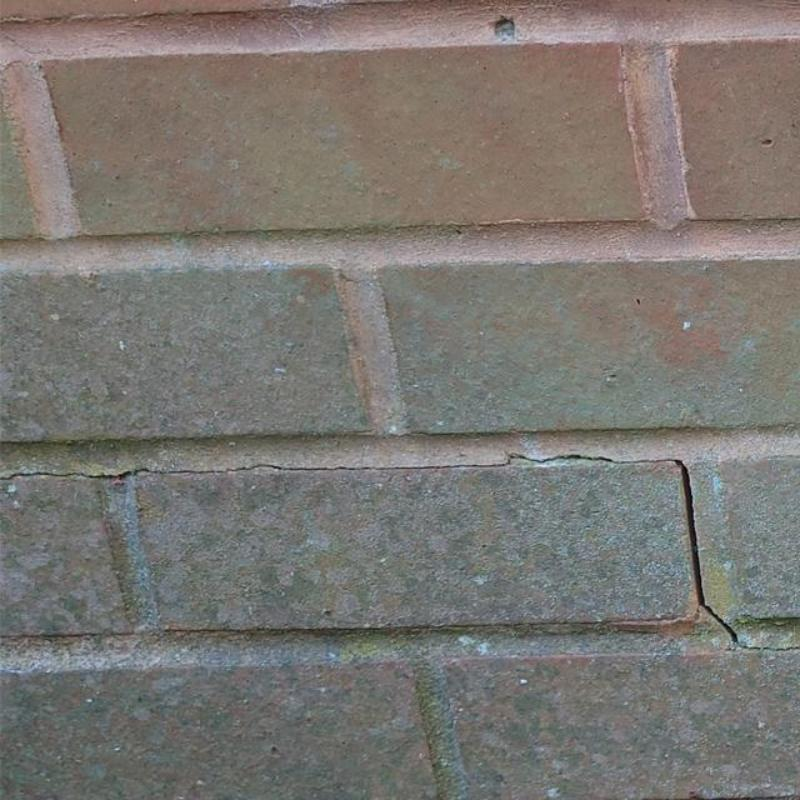pothole: (672, 459, 739, 643), (158, 463, 501, 475), (0, 467, 158, 485), (499, 454, 673, 466), (736, 642, 799, 650)
